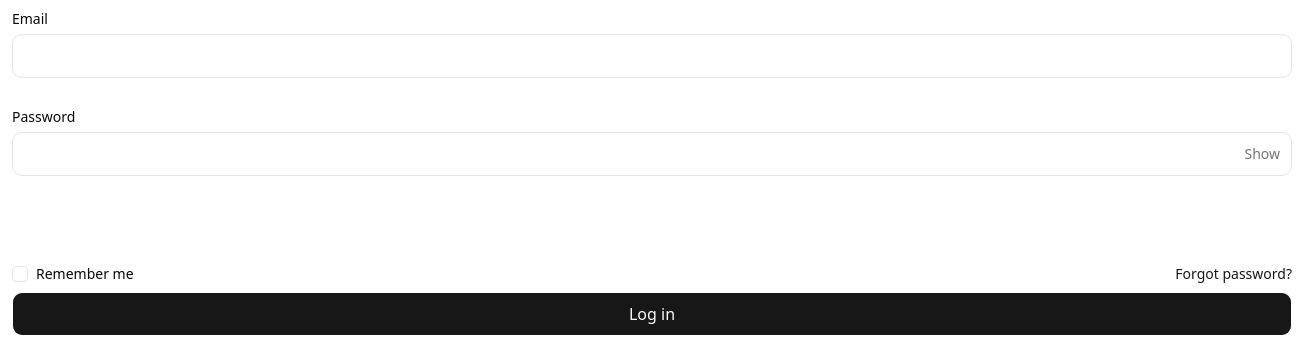
Test case: LoginForm › shows an invalid email error on blur
The image size is (1304, 352).
Type "wrong-email" into the field labelled "Email".
click(652, 56); type("wrong-email")  # box [12, 34, 1292, 78]
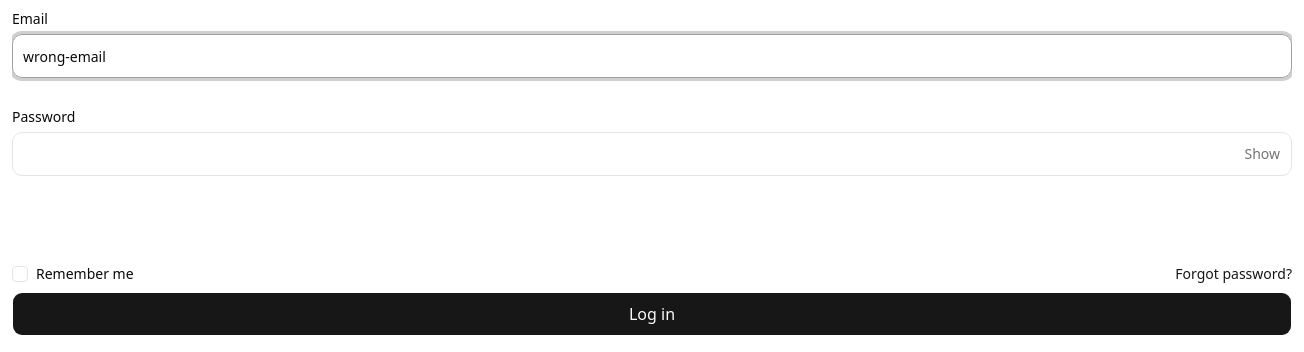
Press Tab
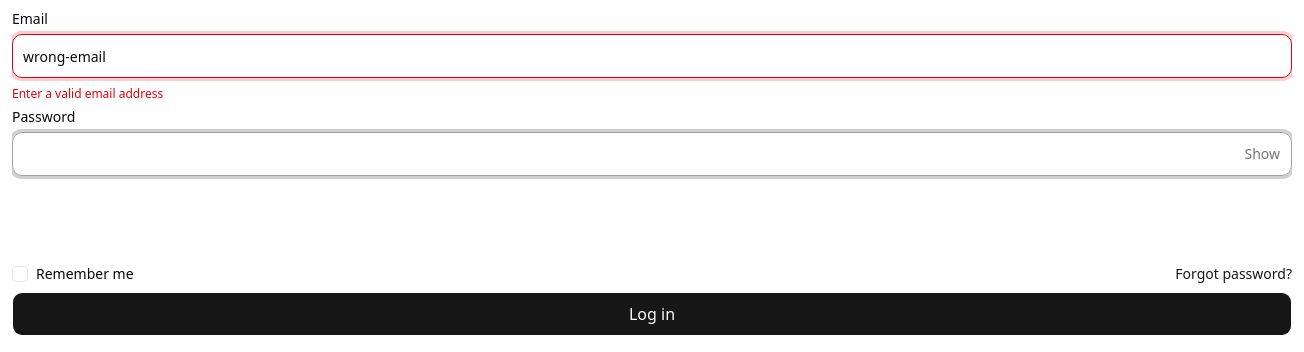
Result: the text "Enter a valid email address" is shown at [12, 85, 163, 102]
